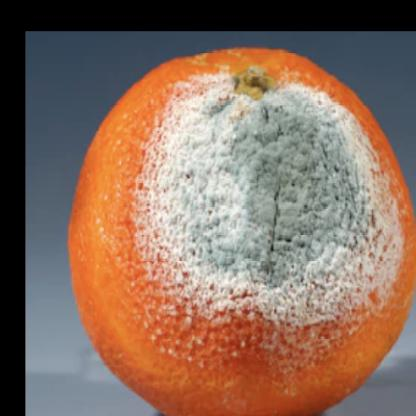rotten: (74, 43, 416, 416)
